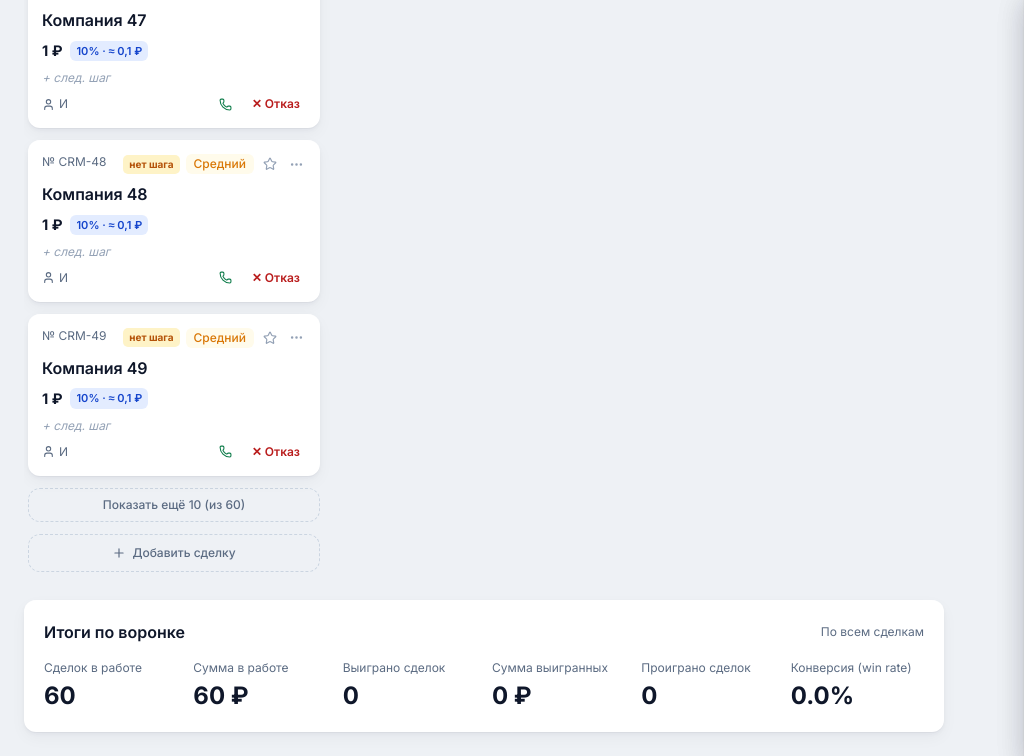
Test: DealsWorkspace (канбан) › колонка рендерит максимум 50 карточек; «Показать ещё» раскрывает остальные
The width and height of the screenshot is (1024, 756).
(page scrolled)
Click the button "Показать ещё 10 (из 60)" at (174, 505), box [28, 488, 320, 522]
(page scrolled)
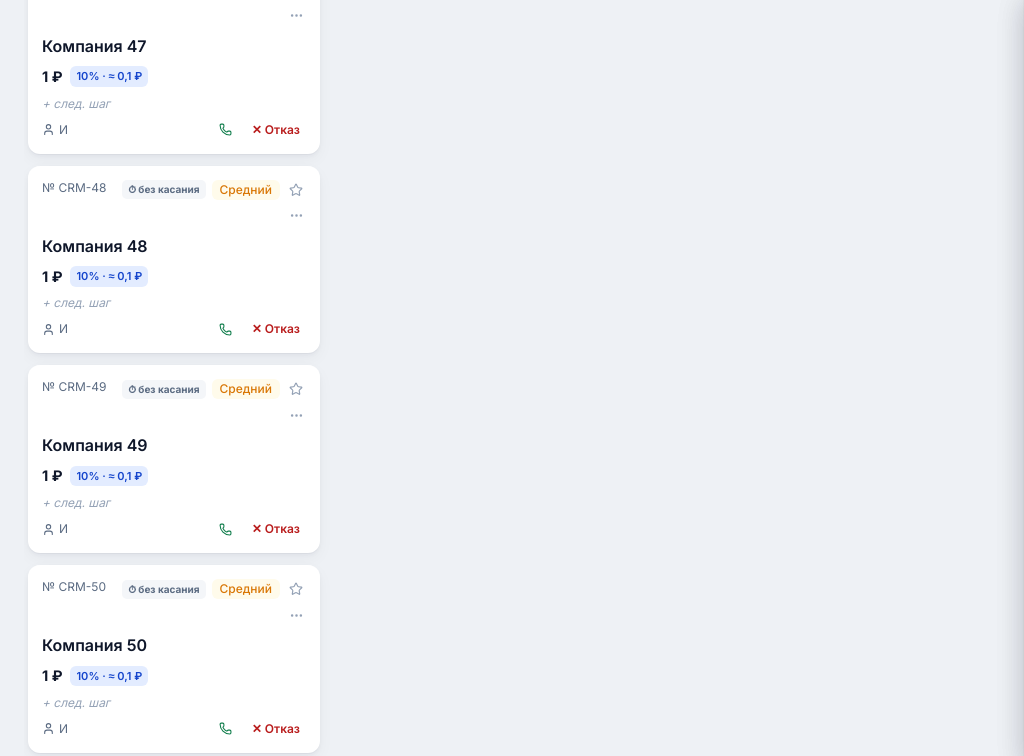
Expected: the button "Показать ещё" is gone
